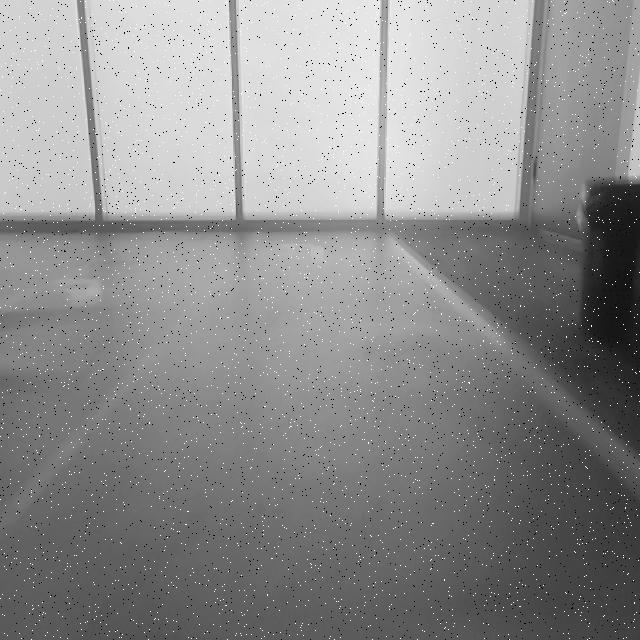left_lane: (0, 274, 220, 538)
right_lane: (391, 237, 640, 498)
